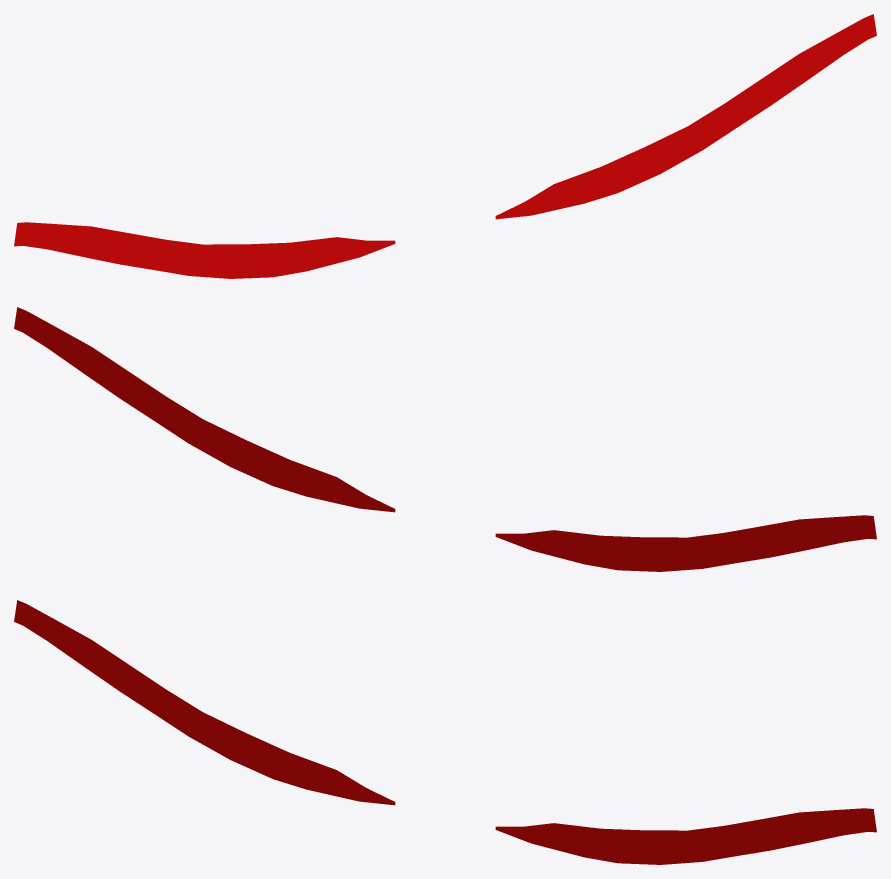
Rendered from frame128.fbx.
3 views of the same model, one above another, from view 1: azimuth 30°, elevation 25°; view 2: azimuth 150°, elevation 25°; view 3: azimuth 330°, elevation 25° (orthographic).
Visible parts, largest first — view 1: MaterialLayer; view 2: MaterialLayer; view 3: MaterialLayer.
Boxes of the visible parts, x1=… form: MaterialLayer: x1=14, y1=14, x2=876, y2=278; MaterialLayer: x1=14, y1=307, x2=876, y2=571; MaterialLayer: x1=14, y1=600, x2=876, y2=864.
Bounding box in the file's own units: 1426 × 188 × 0.
